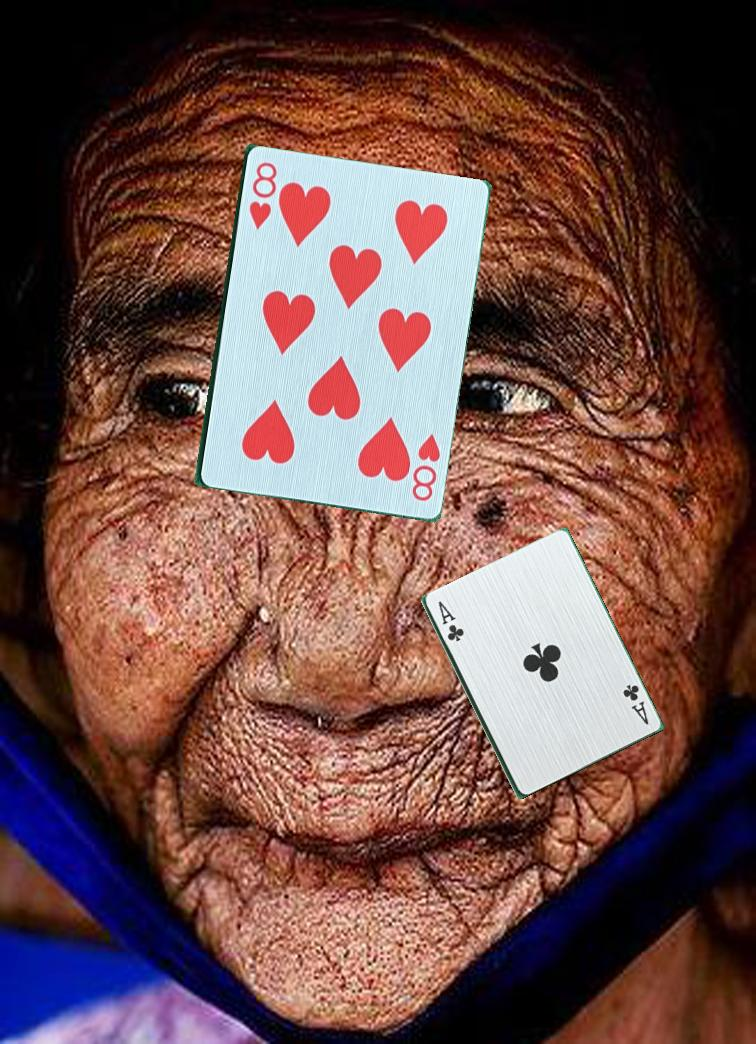8h: (246, 159, 280, 240), (408, 430, 444, 505)
ac: (619, 680, 651, 728), (434, 597, 465, 644)
